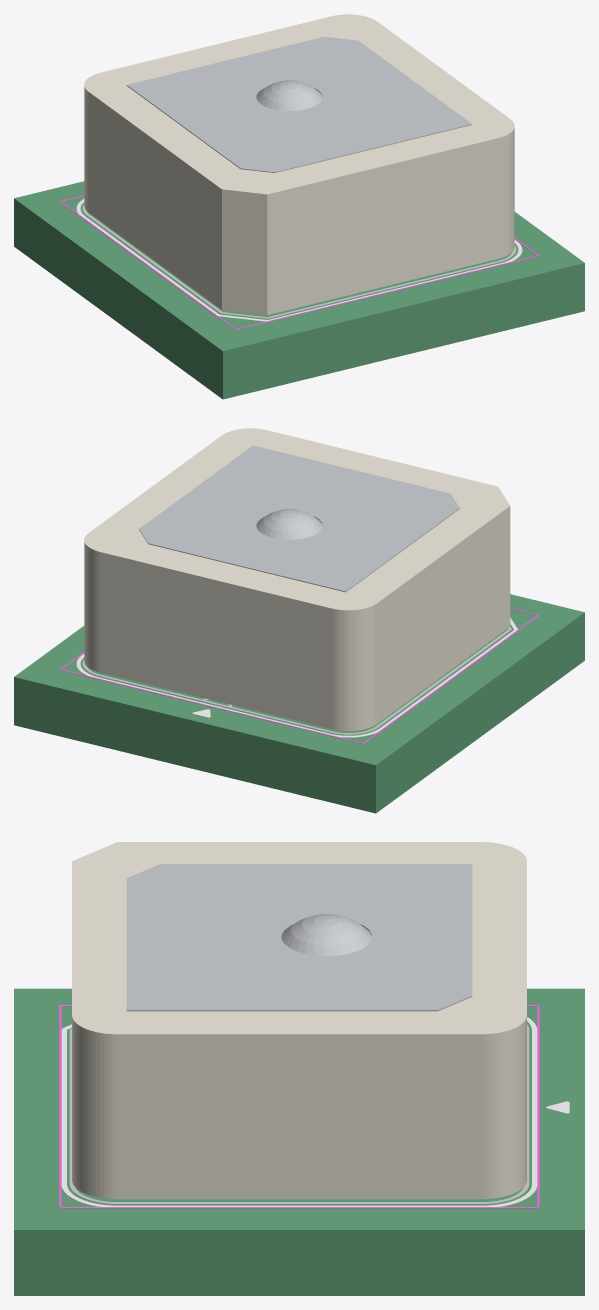
The model's file is head.glb.
3 views of the same model, one above another, from view 1: azimuth 30°, elevation 25°; view 2: azimuth 150°, elevation 25°; view 3: azimuth 270°, elevation 25° (orthographic). The views are drawn at different scales.
Visible parts, largest first — view 1: model_1_4_body, PCB, model_1_3_patch, model_1_2_feed_solder, F.Fab, F.SilkS, F.CrtYd; view 2: model_1_4_body, PCB, model_1_3_patch, model_1_2_feed_solder, F.Fab, F.SilkS, F.CrtYd; view 3: model_1_4_body, PCB, model_1_3_patch, F.SilkS, model_1_2_feed_solder, F.Fab, F.CrtYd.
Boxes of the visible parts, left/top/right/bottom form: model_1_4_body: left=84, top=14, right=514, bottom=315; PCB: left=14, top=181, right=584, bottom=399; model_1_3_patch: left=126, top=36, right=472, bottom=172; model_1_2_feed_solder: left=256, top=80, right=322, bottom=111; F.Fab: left=82, top=204, right=516, bottom=318; F.SilkS: left=76, top=199, right=522, bottom=321; F.CrtYd: left=59, top=195, right=539, bottom=329; model_1_4_body: left=84, top=428, right=510, bottom=730; PCB: left=14, top=594, right=584, bottom=813; model_1_3_patch: left=139, top=445, right=459, bottom=592; model_1_2_feed_solder: left=256, top=509, right=322, bottom=539; F.Fab: left=82, top=627, right=511, bottom=734; F.SilkS: left=76, top=617, right=517, bottom=737; F.CrtYd: left=59, top=608, right=539, bottom=743; model_1_4_body: left=72, top=842, right=526, bottom=1199; PCB: left=14, top=988, right=584, bottom=1295; model_1_3_patch: left=126, top=864, right=472, bottom=1011; F.SilkS: left=61, top=1017, right=569, bottom=1206; model_1_2_feed_solder: left=281, top=914, right=371, bottom=955; F.Fab: left=69, top=1024, right=529, bottom=1204; F.CrtYd: left=59, top=1005, right=539, bottom=1208.
Bounding box in the file's own units: 12.55 × 6.35 × 12.55.
